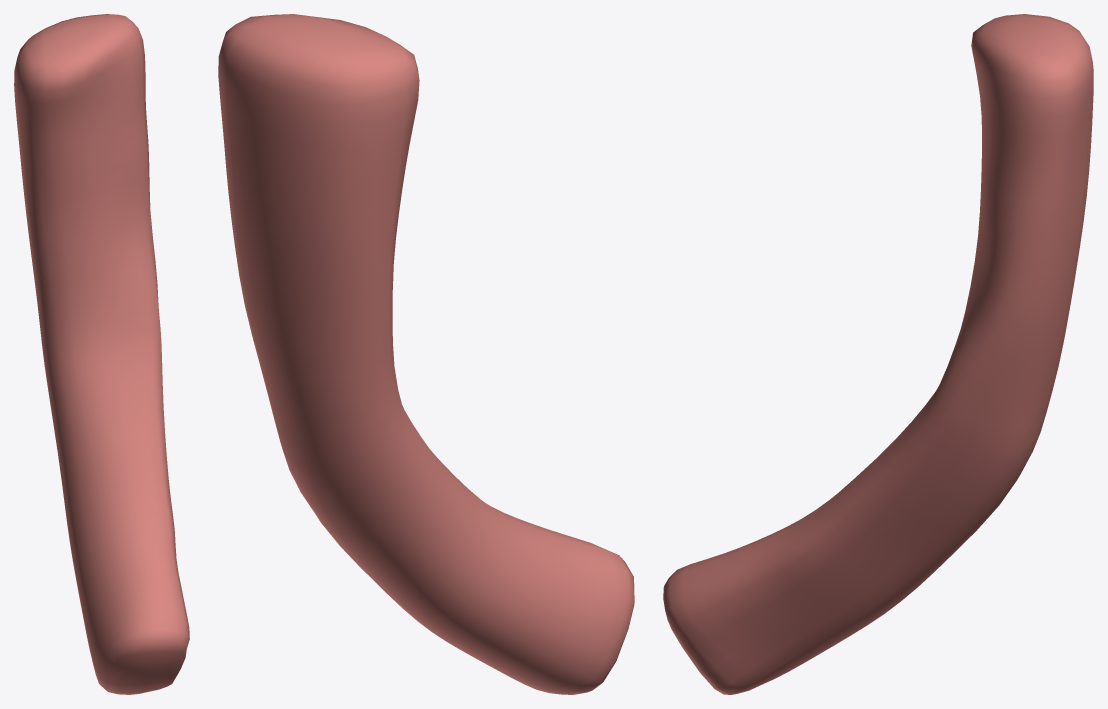
The picture shows the model from 3 angles, left to right: view 1: azimuth 30°, elevation 25°; view 2: azimuth 150°, elevation 25°; view 3: azimuth 270°, elevation 25°; orthographic projection. The views are drawn at different scales.
Parts seen in each view (by area): view 1: ZA_360a600a8fd55aa6; view 2: ZA_360a600a8fd55aa6; view 3: ZA_360a600a8fd55aa6.
Boxes of the visible parts, x1=… form: ZA_360a600a8fd55aa6: x1=14, y1=14, x2=189, y2=694; ZA_360a600a8fd55aa6: x1=218, y1=14, x2=634, y2=694; ZA_360a600a8fd55aa6: x1=663, y1=14, x2=1093, y2=694.
Bounding box in the file's own units: 0.0134 × 0.0429 × 0.0242.
